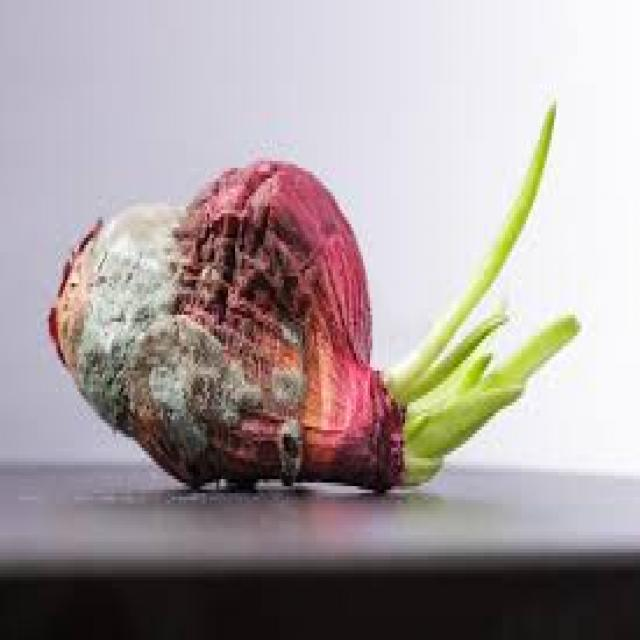organic waste: (46, 158, 402, 490), (380, 95, 580, 482)
